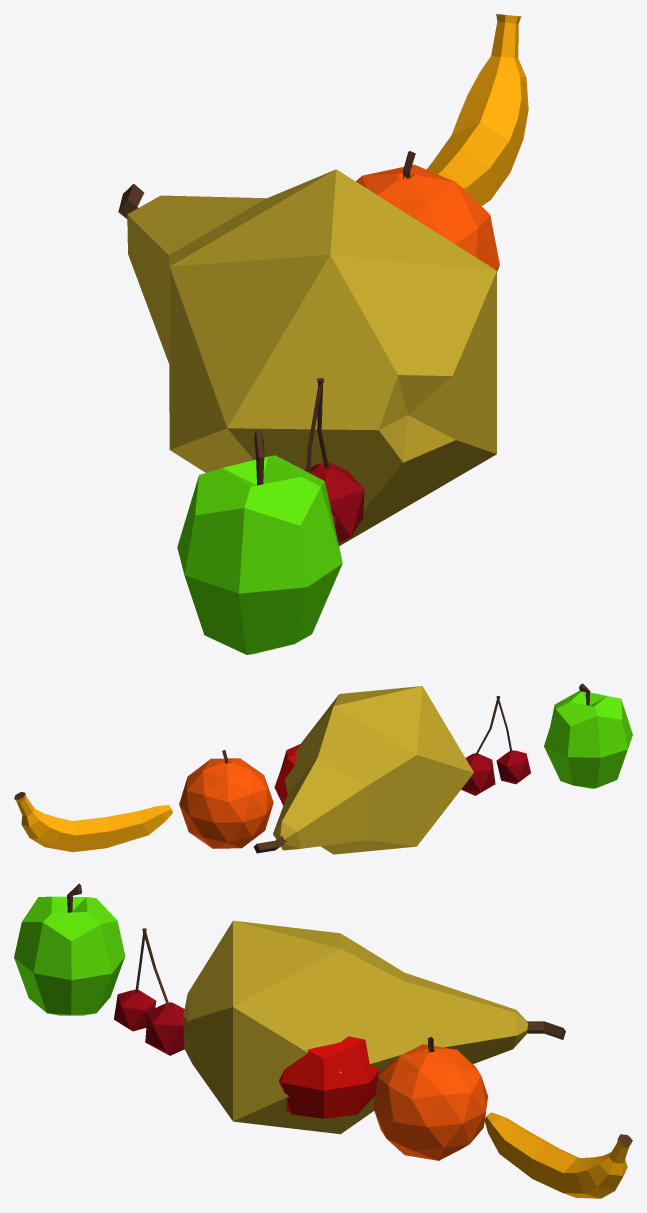
The model's file is pineapple.glb.
3 renders of one model, top to bottom at view 1: azimuth 30°, elevation 25°; view 2: azimuth 150°, elevation 25°; view 3: azimuth 270°, elevation 25°, orthographic. The views are drawn at different scales.
Visible parts, largest first — view 1: Icosphere.001, Cube.002, Icosphere.002, Icosphere, Cube; view 2: Icosphere.001, Cube.002, Icosphere, Icosphere.002, Cube, Cube.001; view 3: Icosphere.001, Cube.002, Icosphere, Cube.001, Icosphere.002, Cube.
Boxes of the visible parts, x1,y1,x2,y2 form: Icosphere.001: [118, 169, 496, 546]; Cube.002: [177, 429, 342, 654]; Icosphere.002: [426, 14, 528, 206]; Icosphere: [356, 151, 499, 271]; Cube: [304, 377, 364, 542]; Icosphere.001: [254, 686, 473, 854]; Cube.002: [544, 683, 632, 788]; Icosphere: [179, 750, 273, 848]; Icosphere.002: [14, 792, 172, 852]; Cube: [461, 695, 530, 795]; Cube.001: [274, 744, 300, 805]; Icosphere.001: [183, 920, 565, 1134]; Cube.002: [14, 883, 125, 1015]; Icosphere: [373, 1037, 487, 1160]; Cube.001: [278, 1036, 379, 1118]; Icosphere.002: [484, 1112, 632, 1198]; Cube: [114, 928, 184, 1055].
Bounding box in the file's own units: 6.11 × 2.22 × 6.71.
